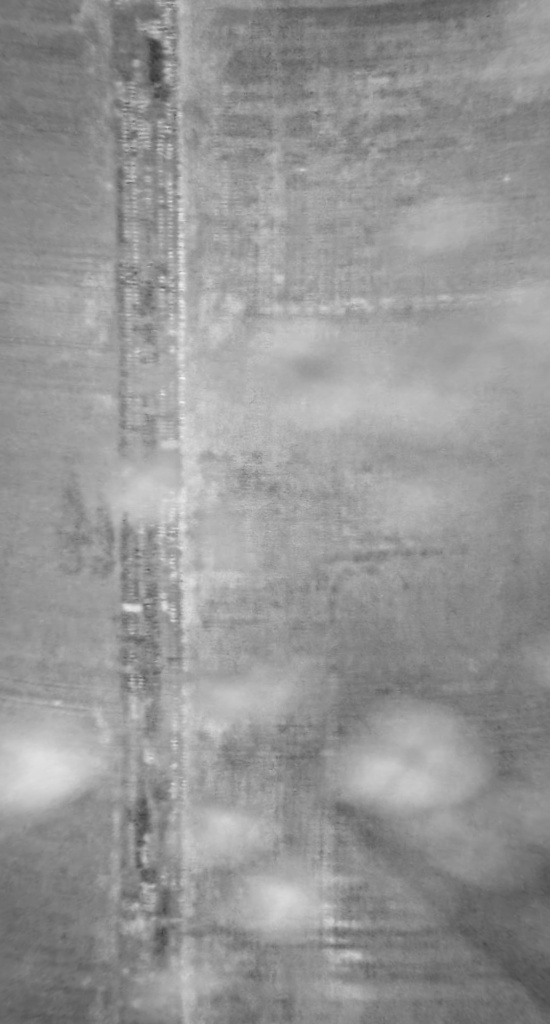splice: (102, 1, 194, 1024)
